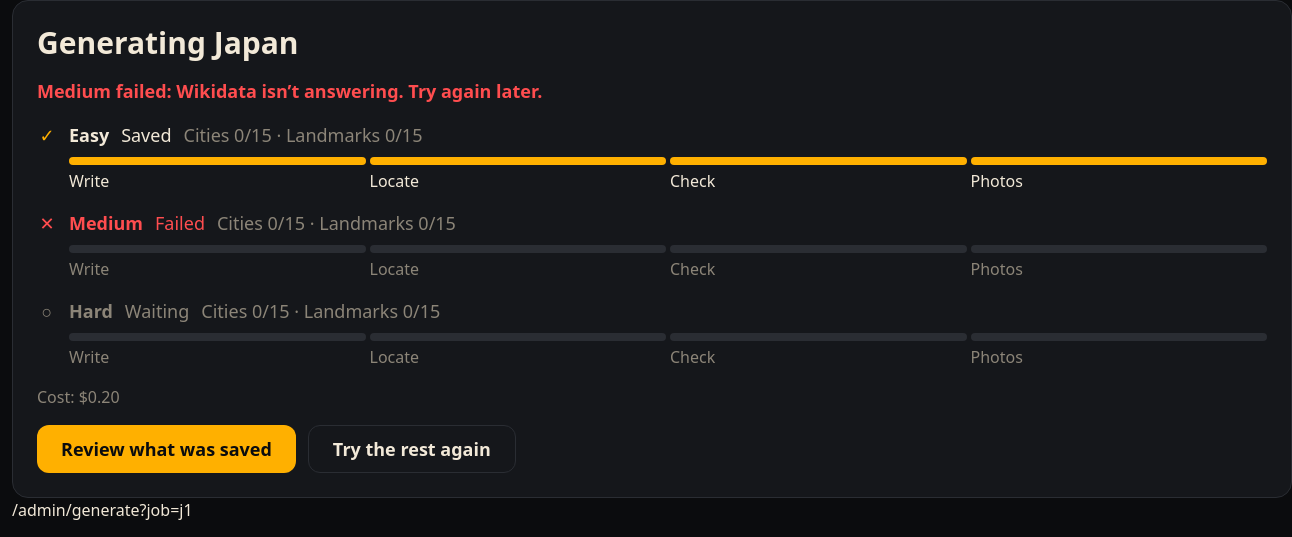
Generate failure and cancel › names the level and why, with Review what was saved and Try the rest again
Expected: the message reads "Medium failed: Wikidata isn’t answering. Try again later.", [37,79,542,103]
Expected: the text "Cost: $0.20" is shown, [37,386,120,408]
Click the button "Try the rest again". click: (412, 449)
box: [308,425,516,473]
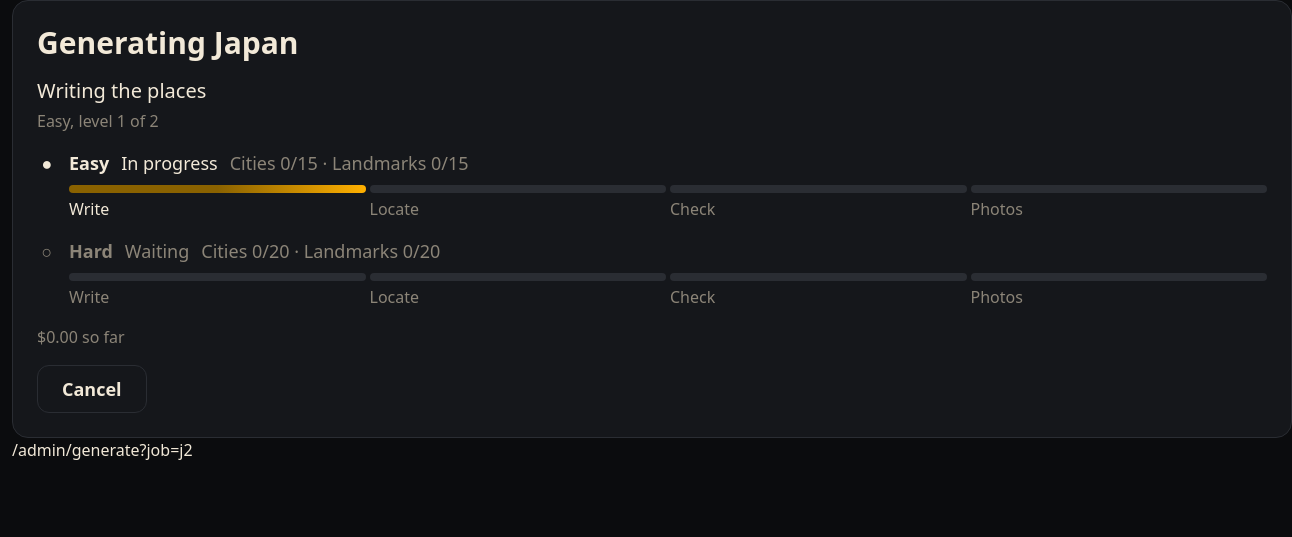
Now the text with test id "where" reads "/admin/generate?job=j2", box [12,439,193,461]
